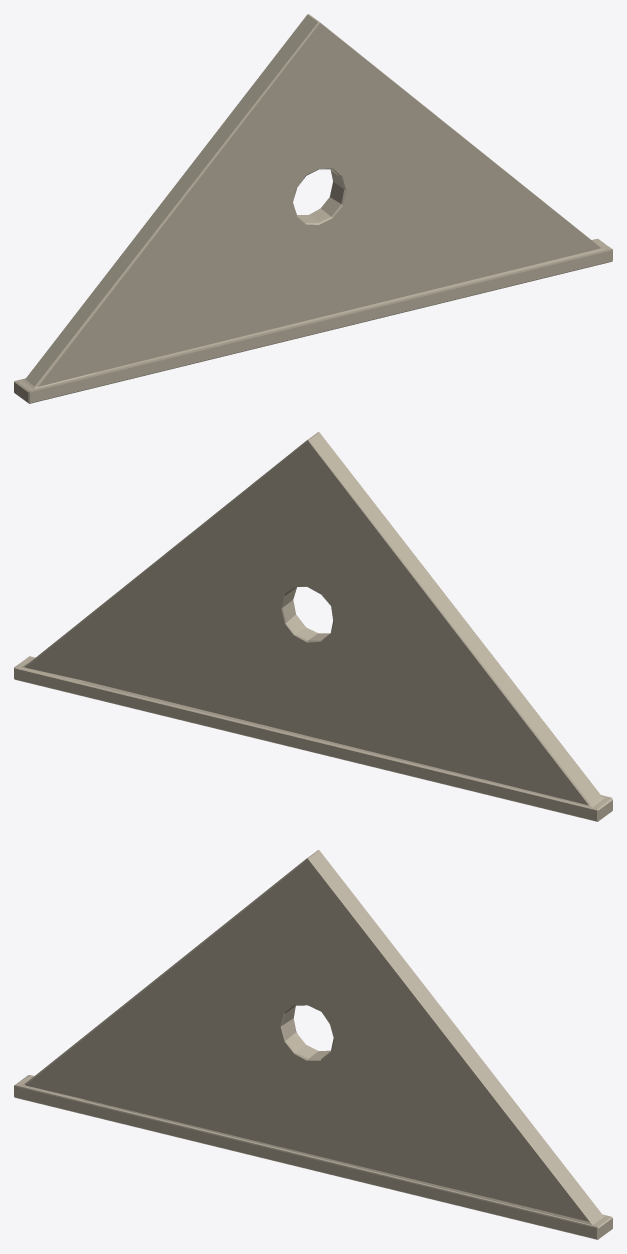
The model's file is gable_win_r14.fbx.
The picture shows the model from 3 angles, top to bottom: view 1: azimuth 30°, elevation 25°; view 2: azimuth 150°, elevation 25°; view 3: azimuth 330°, elevation 25°; orthographic projection.
Visible parts, largest first — view 1: gable_win_r14; view 2: gable_win_r14; view 3: gable_win_r14.
Boxes of the visible parts, x1=… form: gable_win_r14: x1=14, y1=14, x2=612, y2=403; gable_win_r14: x1=14, y1=432, x2=612, y2=821; gable_win_r14: x1=14, y1=850, x2=612, y2=1239.
Size of the model in its own units: 2840 by 1436 by 130.
